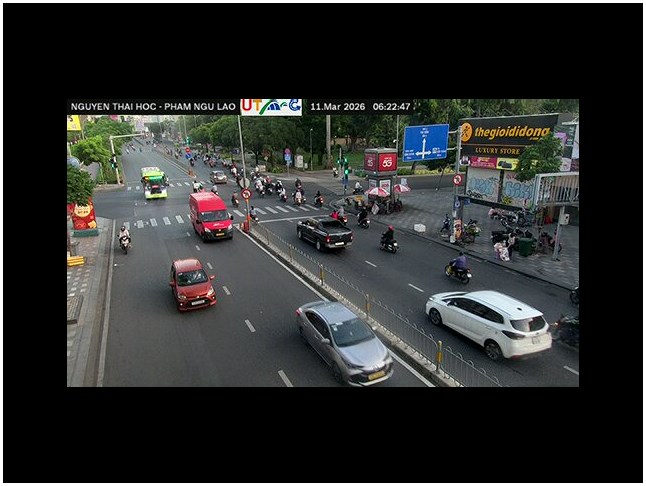bus: (189, 191, 233, 242)
car: (425, 289, 554, 361), (294, 298, 395, 386), (168, 256, 218, 311), (297, 216, 354, 252), (211, 170, 228, 184)
motorbike: (444, 257, 472, 285), (380, 233, 399, 254)
truck: (141, 166, 169, 200)
